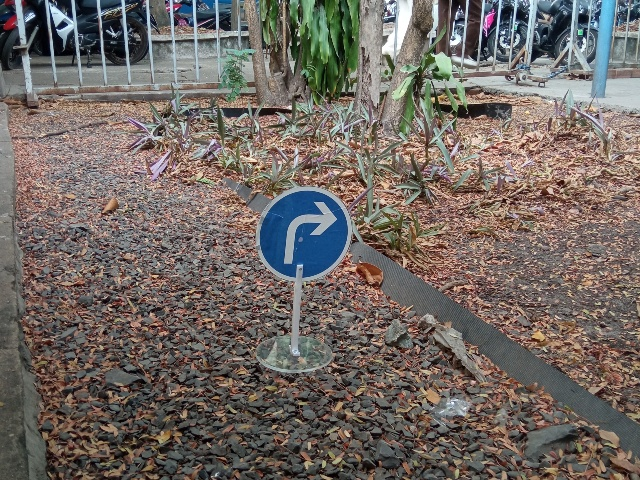Right_Sign: (257, 187, 352, 282)
